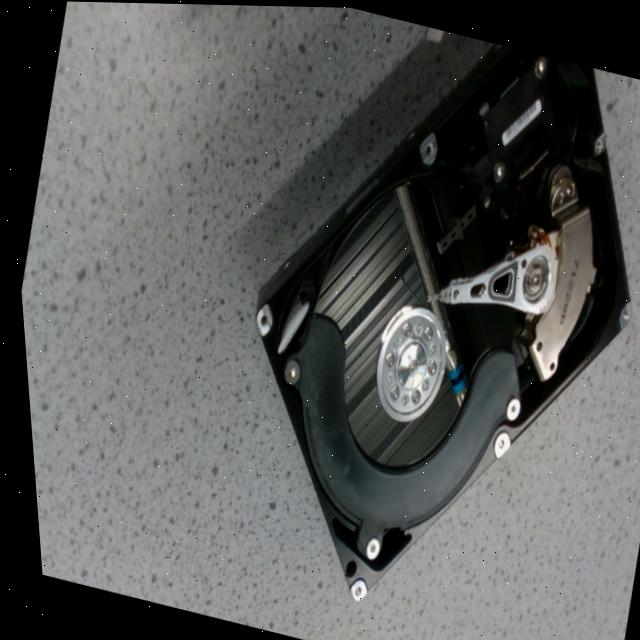actuator arm: (432, 240, 551, 311)
actuator axis: (518, 255, 544, 298)
case: (249, 42, 627, 598)
magnet: (523, 203, 591, 376)
pcb connector: (478, 55, 551, 188)
platter: (312, 176, 510, 465)
platter holder: (370, 303, 441, 419)
platter protector: (286, 313, 510, 560)
screw: (277, 357, 293, 382), (499, 393, 513, 418), (357, 535, 370, 556), (534, 53, 545, 74), (490, 159, 501, 179), (404, 387, 414, 402), (421, 358, 431, 371), (378, 350, 387, 363), (383, 384, 392, 396), (418, 324, 426, 337), (396, 323, 405, 333)
